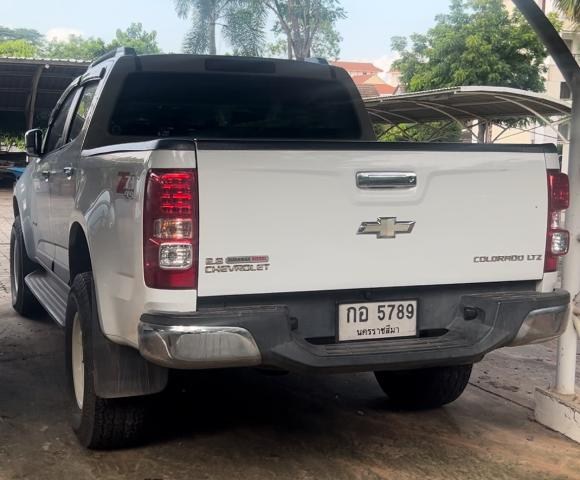pickup-truck: (6, 47, 575, 454)
